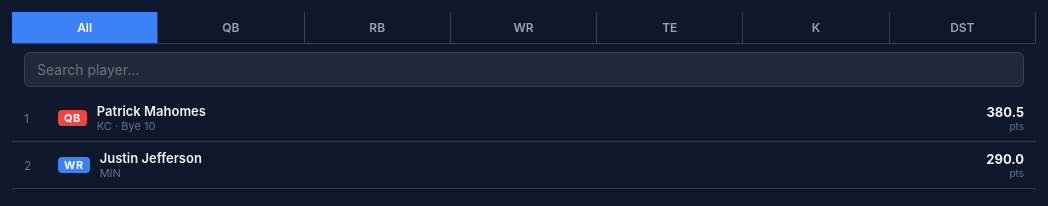
AvailablePlayers — player list and interactions › filters displayed players by search input
Type "Mahomes" into the field with placeholder "Search player…". click: (524, 70)
box: [24,52,1024,87]
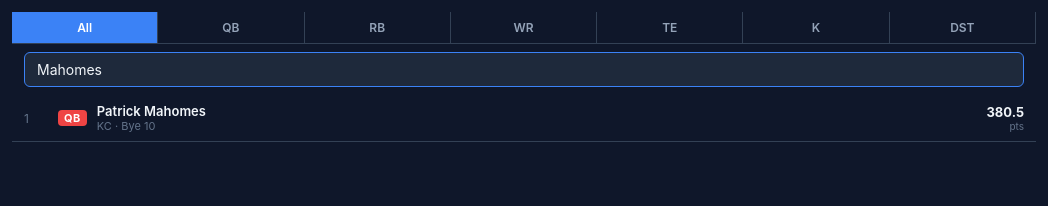
expect the text "Patrick Mahomes" is shown: met, box [97,103,206,119]
expect the text "Justin Jefferson" is gone: met
